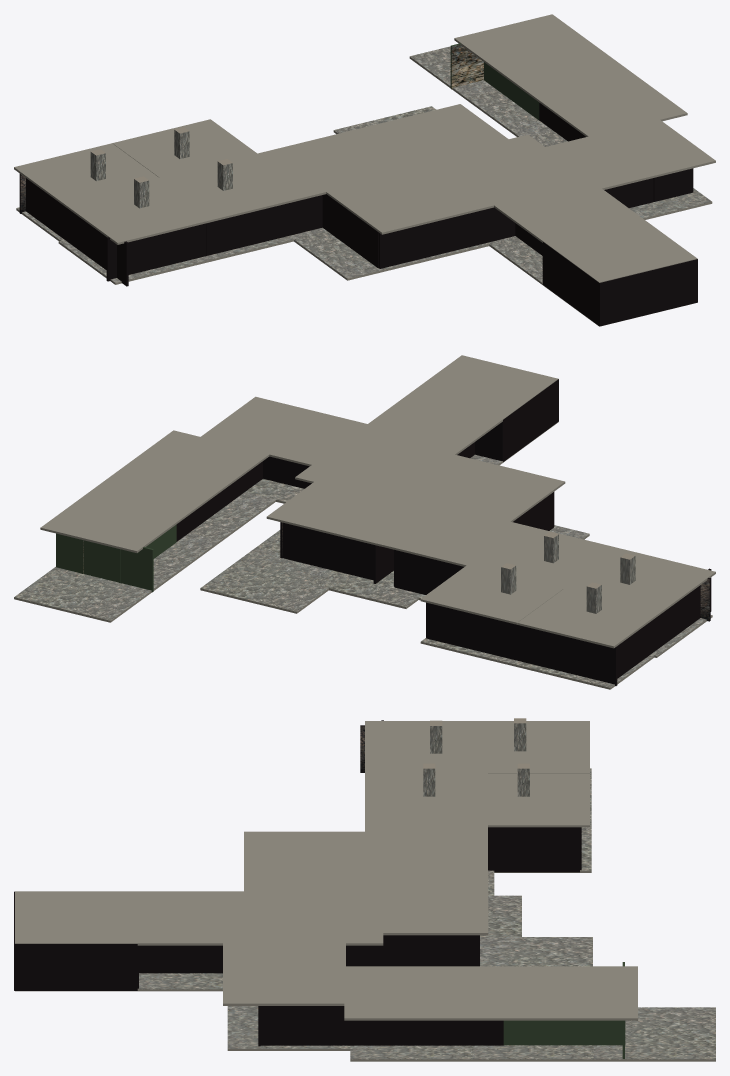
The model's file is maze.fbx.
3 renders of one model, top to bottom at view 1: azimuth 30°, elevation 25°; view 2: azimuth 150°, elevation 25°; view 3: azimuth 270°, elevation 25°, orthographic. The views are drawn at different scales.
Parts seen in each view (by area): view 1: pCube82, pCube83, pCube81, pCube43, pCube70, pCube18, pCube19, pCube73, pCube72, pCube71, pCube45, pCube3 (+25 smaller); view 2: pCube83, pCube70, pCube82, pCube81, pCube43, pCube19, pCube71, pCube18, pCube74, pCube75, pCube23, pCube45 (+25 smaller); view 3: pCube82, pCube83, pCube81, pCube43, pCube19, pCube45, pCube18, pCube69, pCube71, pCube73, pCube72, pCube4 (+18 smaller).
Boxes of the visible parts, x1,y1,x2,y2 form: pCube82: [522, 63, 687, 136]; pCube83: [454, 14, 618, 89]; pCube81: [545, 119, 715, 189]; pCube43: [343, 104, 508, 173]; pCube70: [326, 162, 499, 234]; pCube18: [542, 217, 697, 282]; pCube19: [487, 177, 640, 242]; pCube73: [61, 177, 214, 244]; pCube72: [159, 154, 311, 221]; pCube71: [251, 132, 397, 198]; pCube45: [444, 134, 583, 199]; pCube3: [599, 259, 697, 326]; pCube83: [40, 479, 203, 552]; pCube70: [394, 454, 565, 522]; pCube82: [107, 430, 269, 504]; pCube81: [200, 396, 367, 466]; pCube43: [266, 476, 430, 546]; pCube19: [351, 396, 502, 459]; pCube71: [377, 502, 523, 566]; pCube18: [406, 355, 558, 419]; pCube74: [517, 582, 669, 648]; pCube75: [420, 560, 572, 624]; pCube23: [200, 547, 337, 613]; pCube45: [295, 436, 446, 493]; pCube82: [344, 966, 491, 1020]; pCube83: [490, 966, 637, 1020]; pCube81: [223, 943, 345, 1005]; pCube43: [365, 871, 488, 935]; pCube19: [137, 891, 260, 945]; pCube45: [260, 891, 383, 945]; pCube18: [15, 891, 137, 944]; pCube69: [244, 838, 366, 890]; pCube71: [365, 822, 487, 873]; pCube73: [365, 721, 487, 772]; pCube72: [365, 772, 487, 821]; pCube4: [14, 944, 137, 990].
Bounding box in the file's own units: 28.67 × 4 × 28.49.
Materials: 4 (4 with a texture image).
